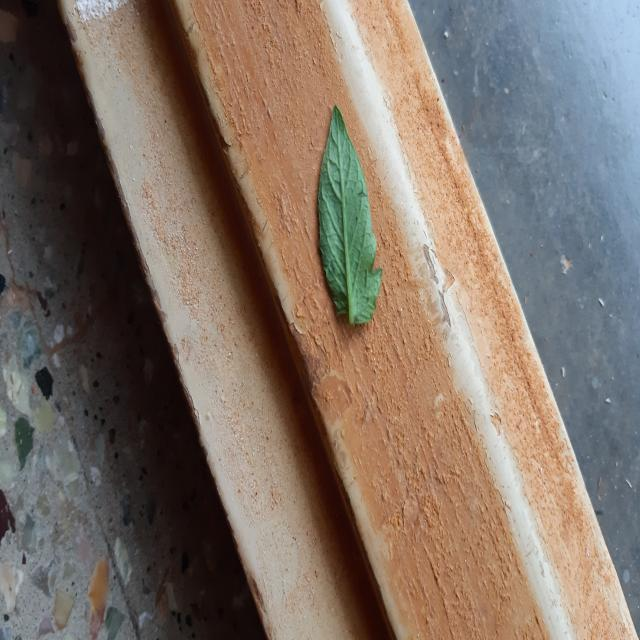tomato: (319, 104, 381, 324)
